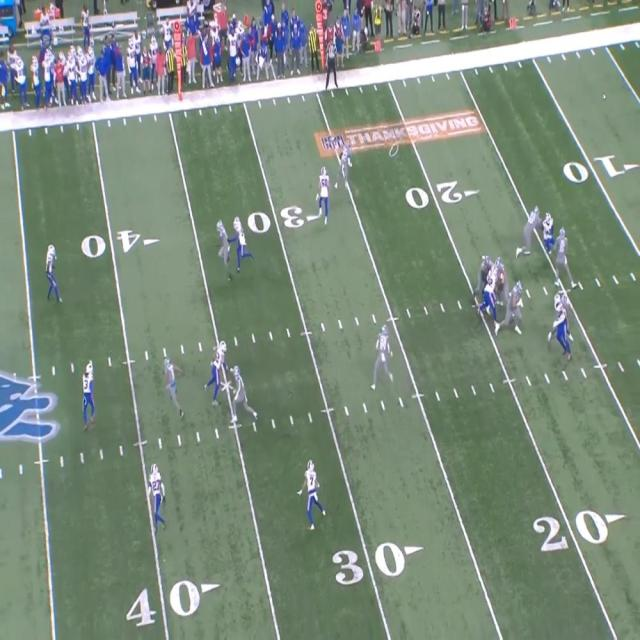db: (304, 459, 320, 527), (149, 464, 165, 532), (233, 214, 247, 266), (48, 241, 60, 299), (83, 360, 94, 422)
lb: (321, 166, 334, 224), (215, 340, 226, 398)
skill: (230, 364, 250, 423), (375, 326, 389, 387), (164, 358, 177, 414), (216, 220, 230, 270), (342, 141, 356, 182)
